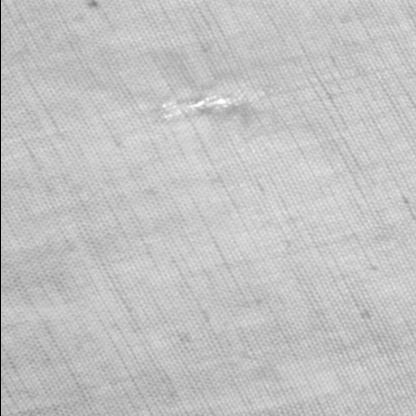hole: (151, 83, 277, 122)
